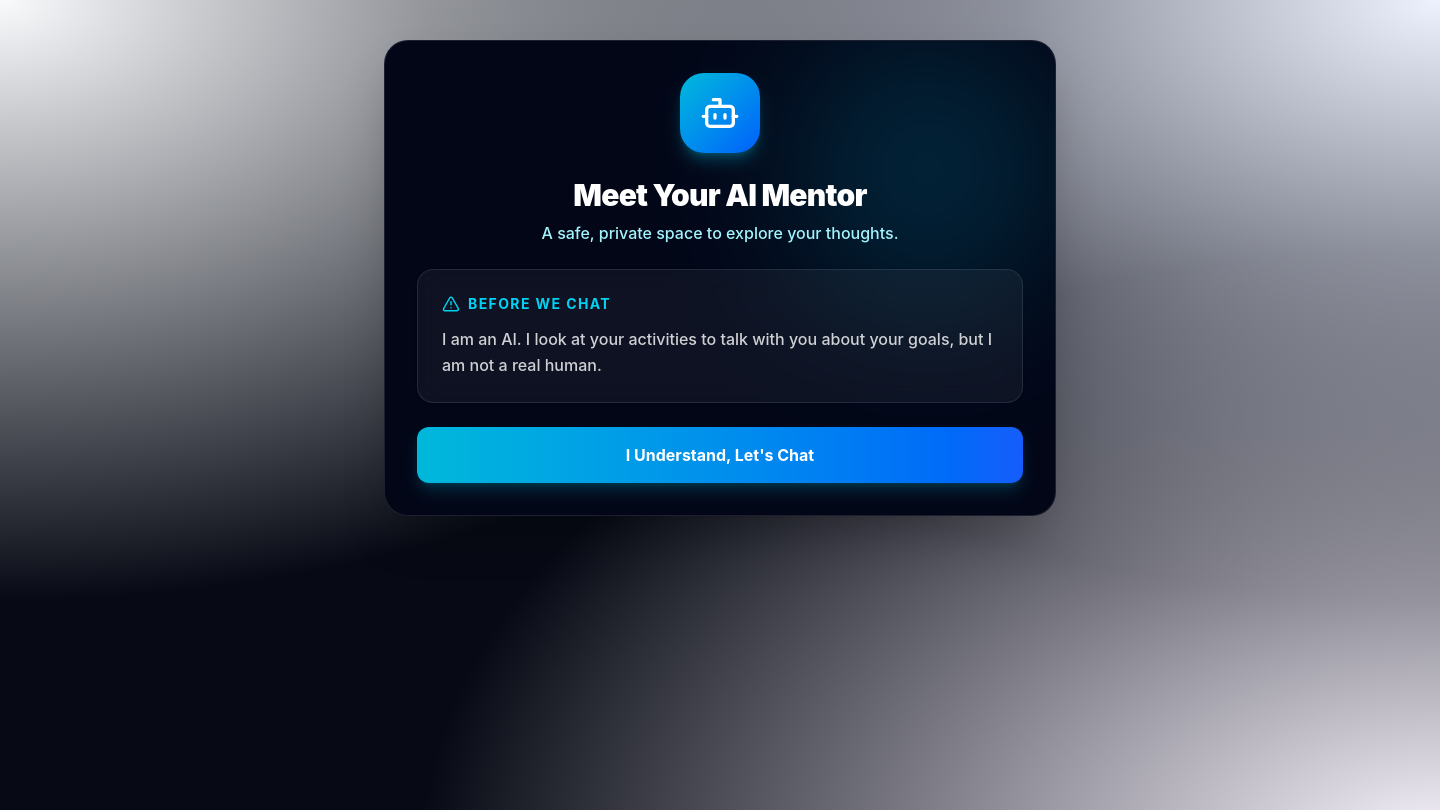
Scenario: AiMentorChat Real Speech Dictation Integration › captures live transcript via Web Speech API and stops dictation cleanly on toggle
Later steps or results of the test are not shown.
Click the button "I Understand, Let's Chat": coordinates (720, 455) [417,427,1023,483]
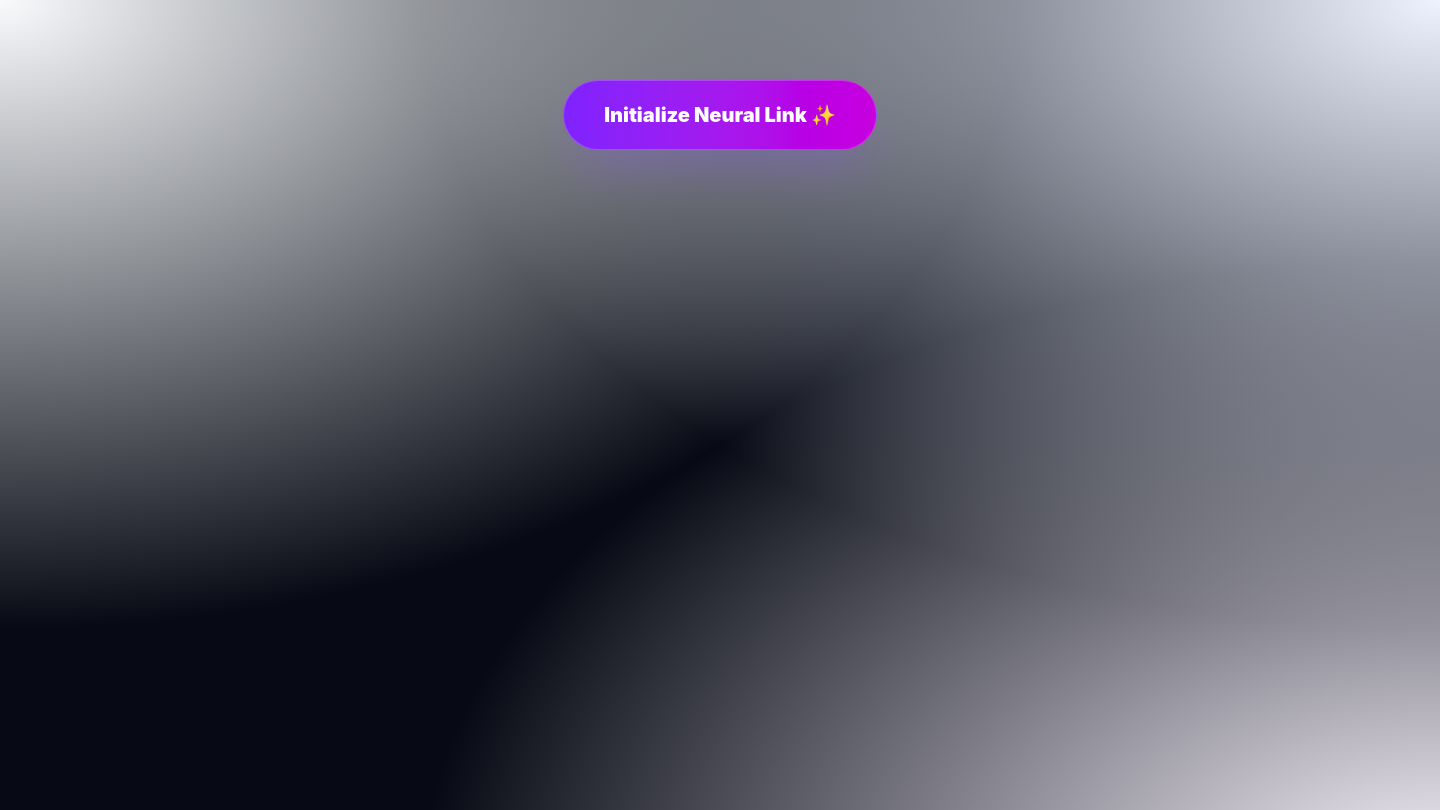
Click the button "Initialize Neural Link ✨": coordinates (720, 115) [563,80,877,150]
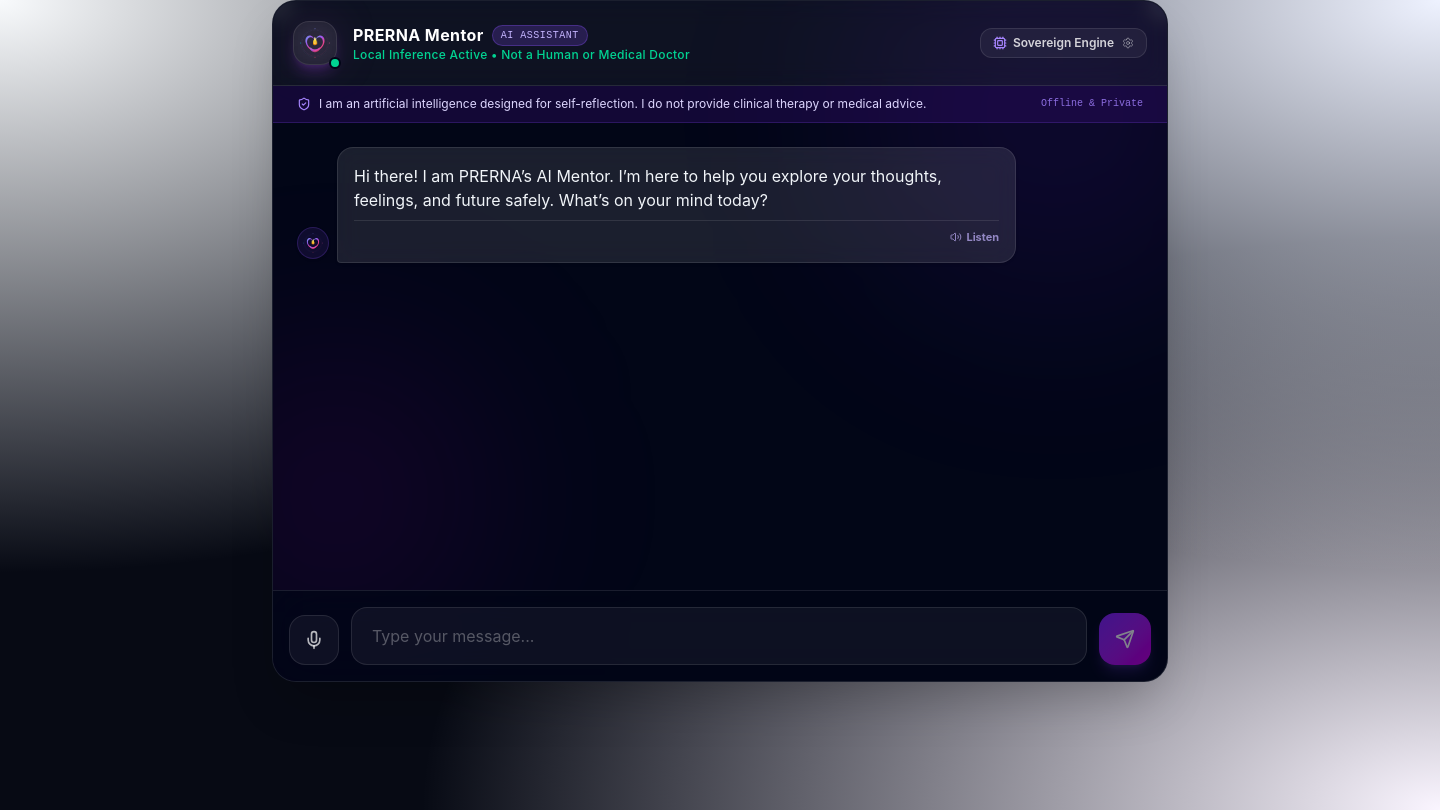
Click the button named "Start voice input": coordinates (314, 640) [289,615,339,665]
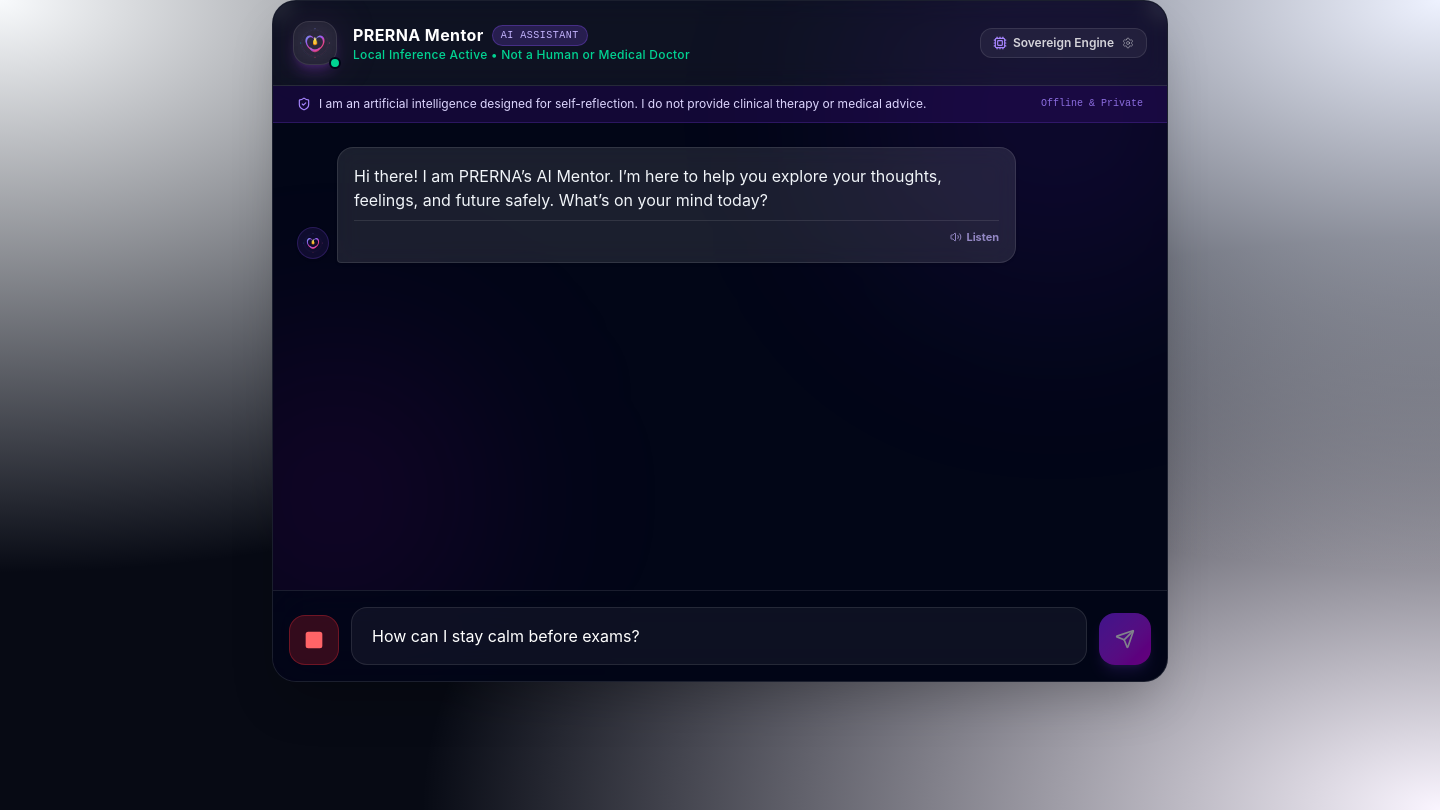
expect the field with placeholder "Type your message..." holds "How can I stay calm before exams?": met, box [351,607,1087,665]
